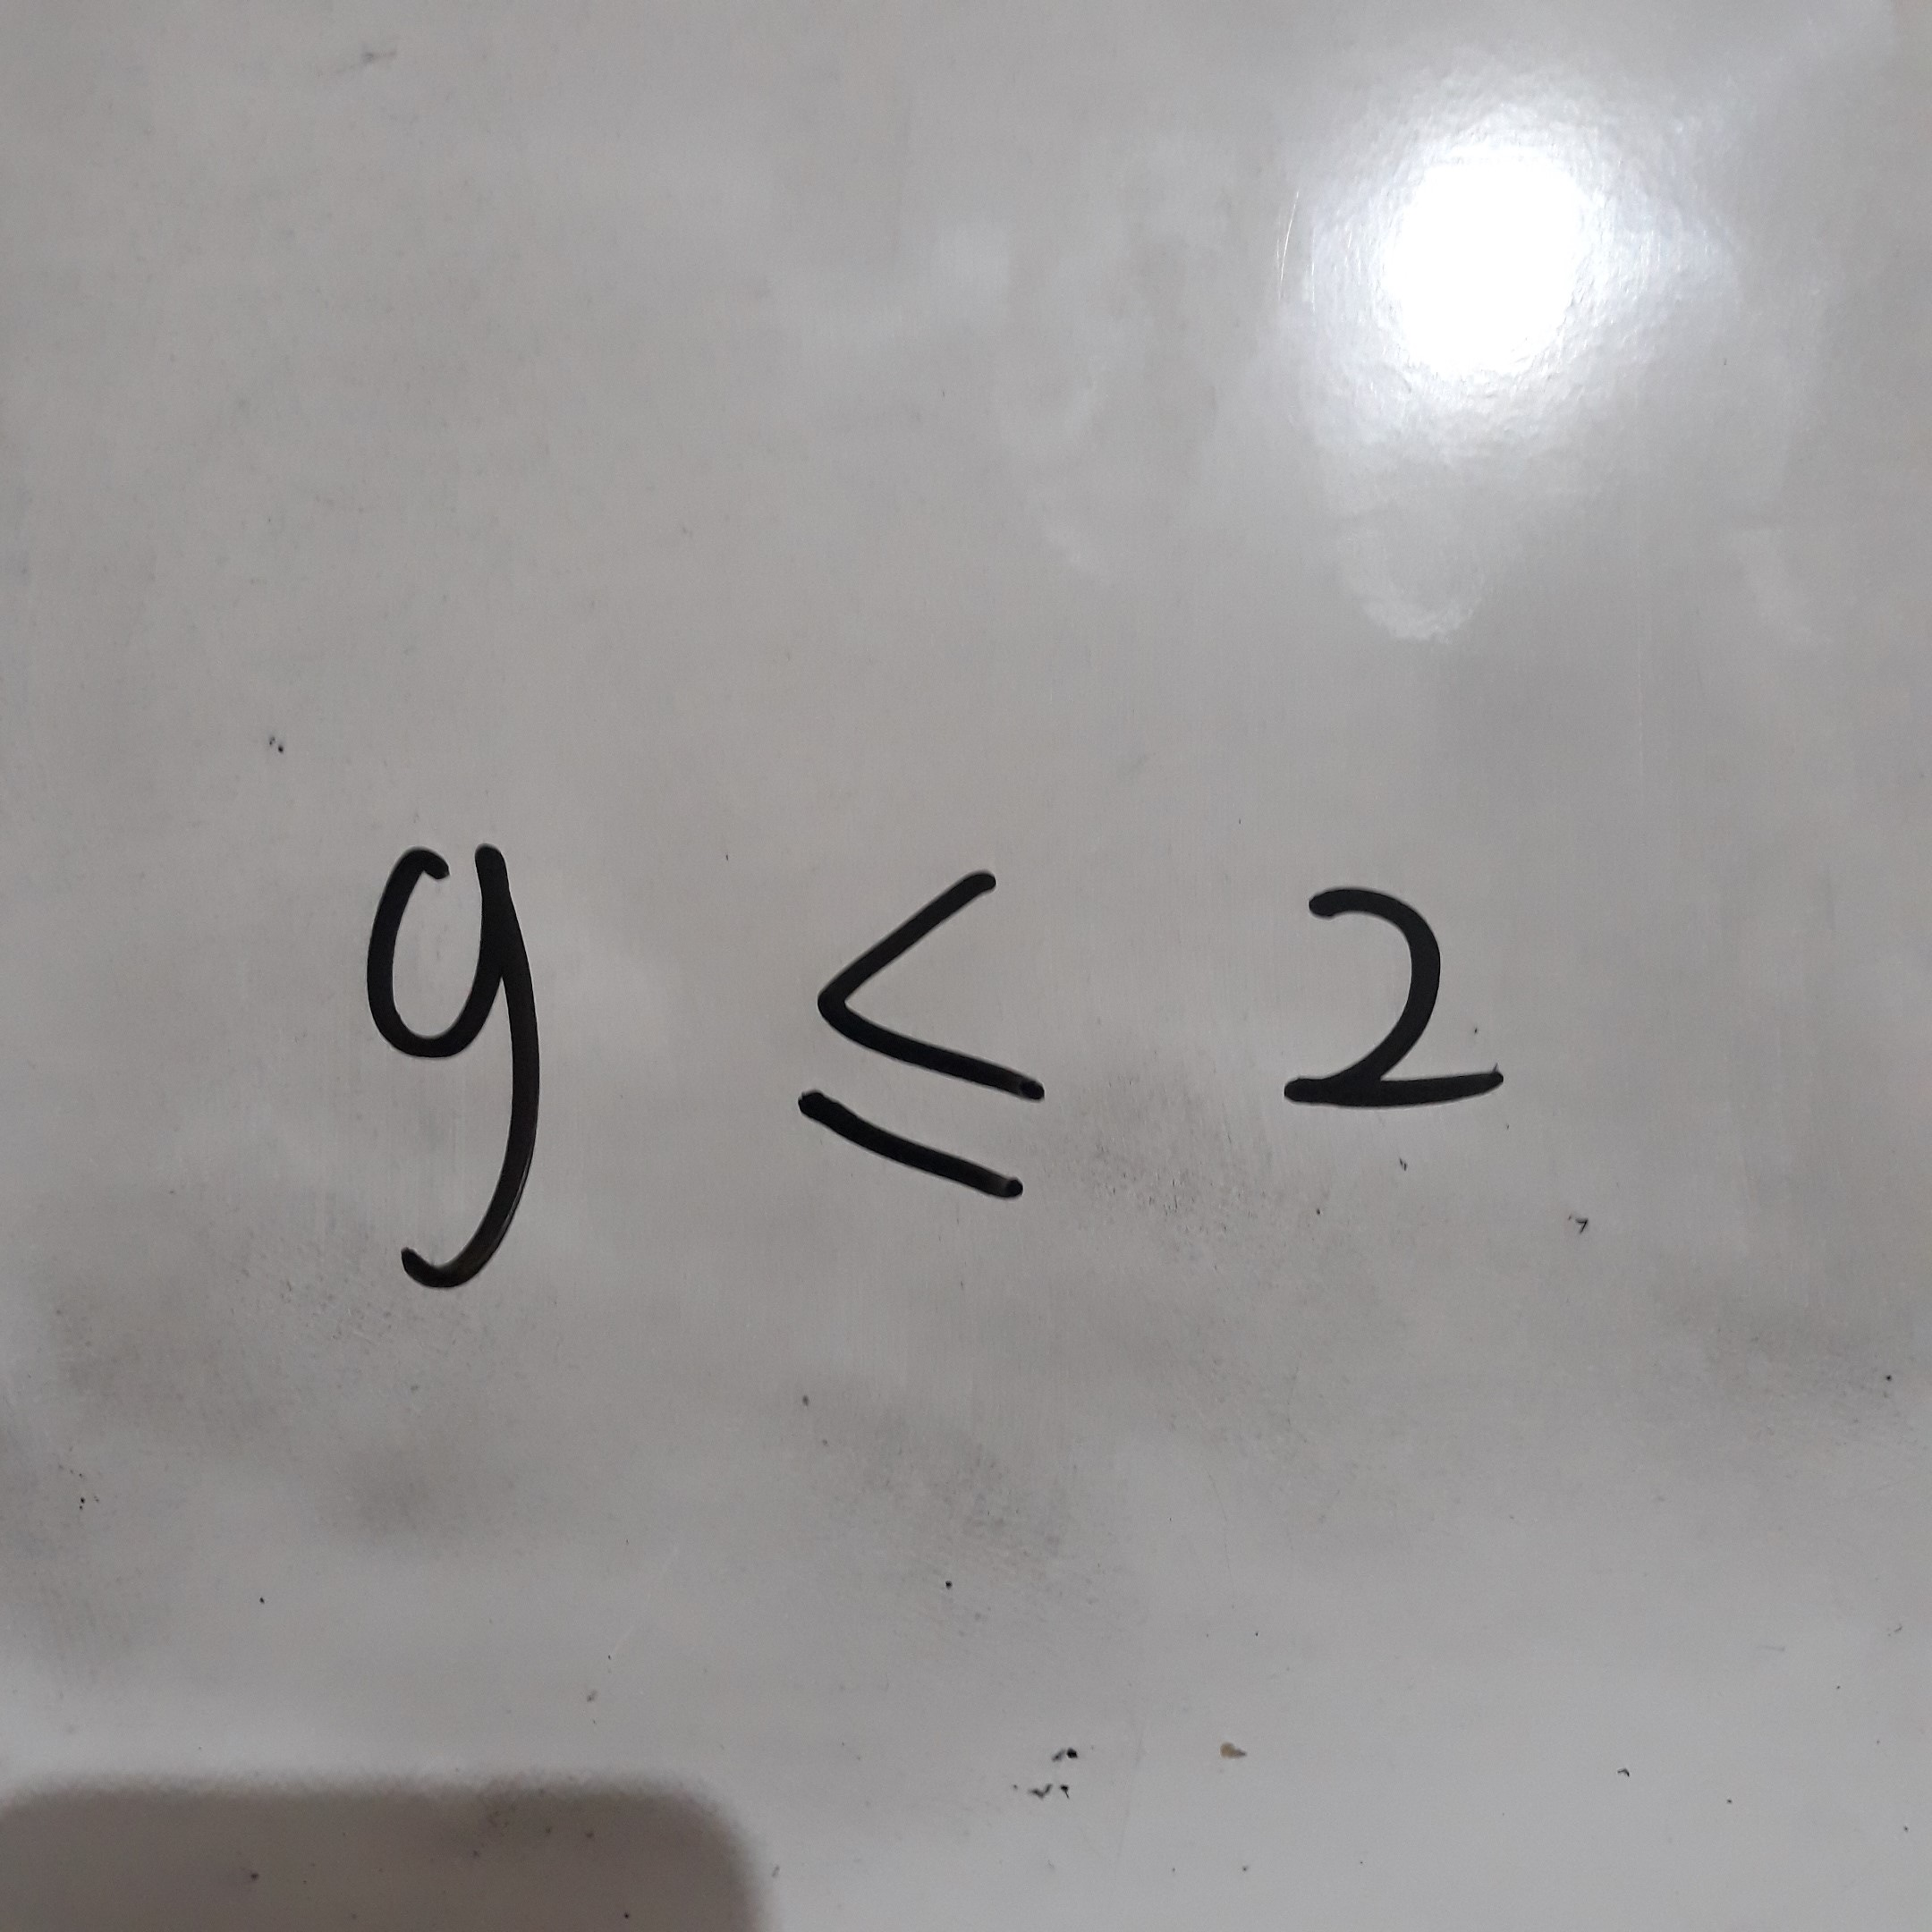lessthan-equal: (787, 851, 1081, 1219)
num2: (1253, 871, 1532, 1132)
num9: (326, 799, 597, 1315)
